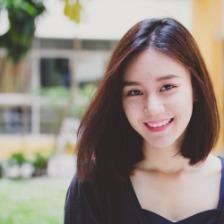Non hijab: (76, 20, 222, 186)
